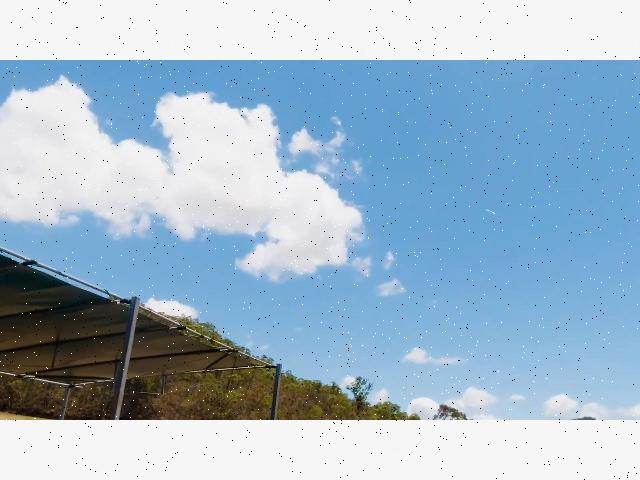Anti-Drone: (474, 198, 504, 220)
